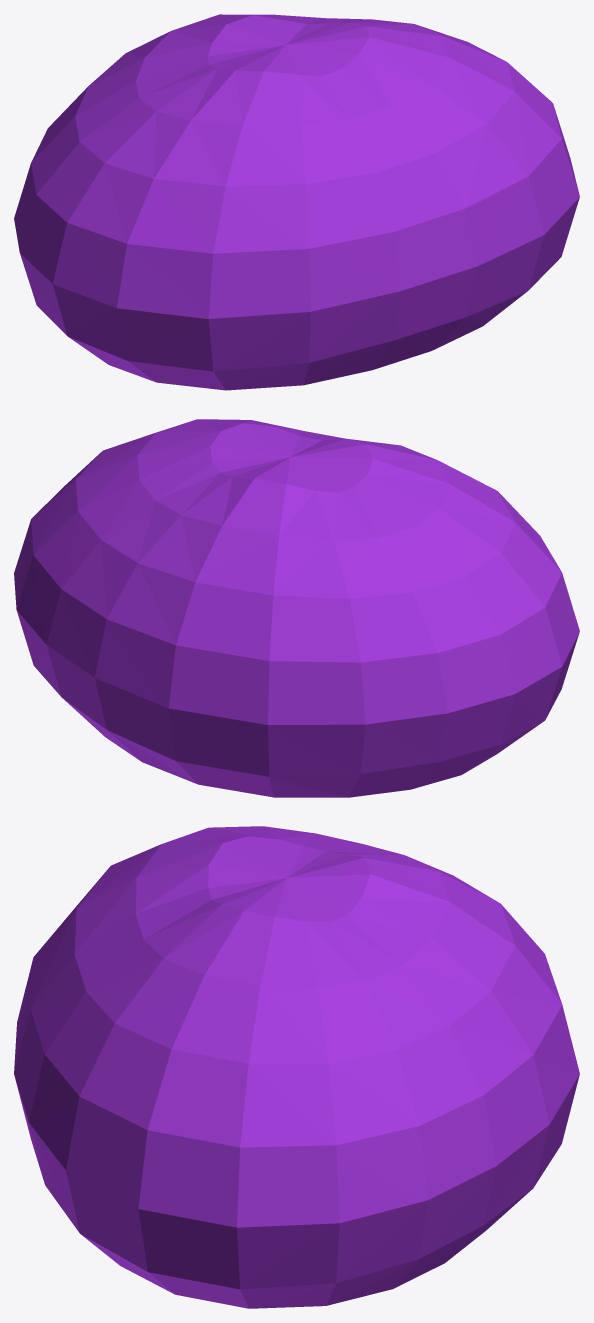
3 views of the same model, one above another, from view 1: azimuth 30°, elevation 25°; view 2: azimuth 150°, elevation 25°; view 3: azimuth 270°, elevation 25° (orthographic). The views are drawn at different scales.
Parts seen in each view (by area): view 1: Model; view 2: Model; view 3: Model.
Part boxes in pixels (x1,y1,x2,y2): Model: [14, 14, 579, 390]; Model: [14, 419, 579, 797]; Model: [14, 826, 579, 1308].
Bounding box in the file's own units: 1.06 × 0.5248 × 0.8387.
